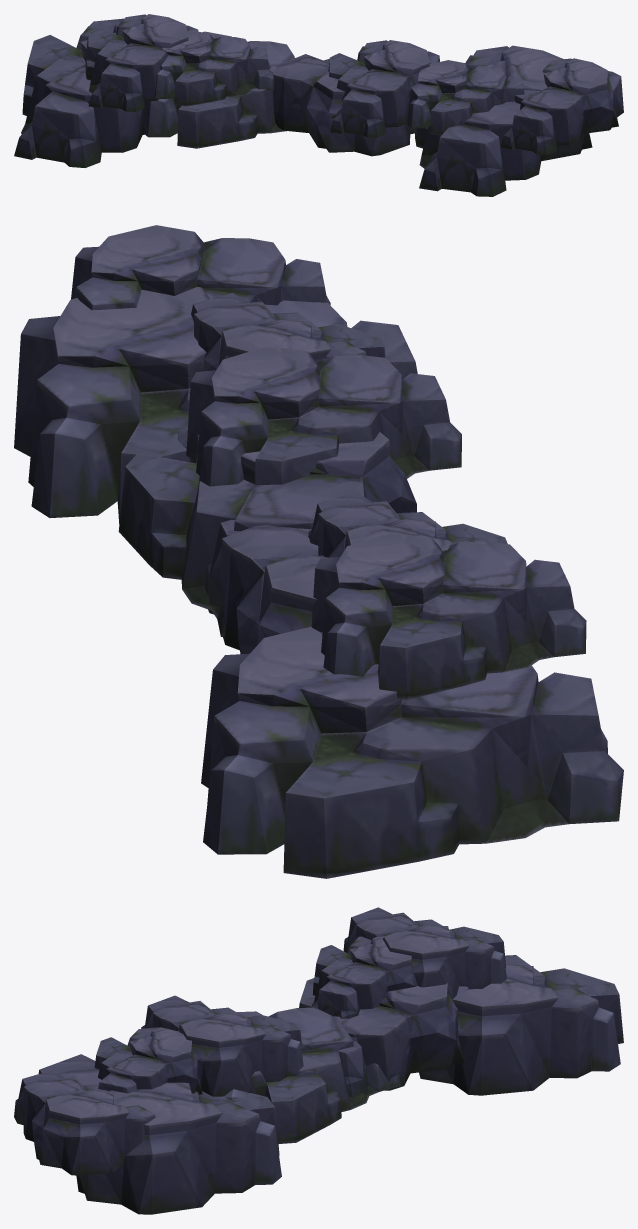
File: Area08_18.fbx
3 renders of one model, top to bottom at view 1: azimuth 30°, elevation 25°; view 2: azimuth 150°, elevation 25°; view 3: azimuth 270°, elevation 25°, orthographic. The views are drawn at different scales.
Visible parts, largest first — view 1: Area08_18; view 2: Area08_18; view 3: Area08_18.
Part boxes in pixels (x1=…): Area08_18: x1=14, y1=14, x2=623, y2=196; Area08_18: x1=14, y1=225, x2=623, y2=878; Area08_18: x1=14, y1=907, x2=623, y2=1214.
Bounding box in the file's own units: 2298 × 497 × 2311.
